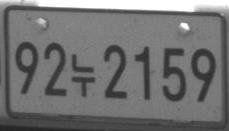1: (132, 45, 157, 100)
2: (103, 43, 127, 98), (43, 41, 67, 95)
5: (161, 46, 187, 101)
9: (190, 47, 216, 102), (14, 40, 38, 94)
누: (70, 53, 95, 96)
